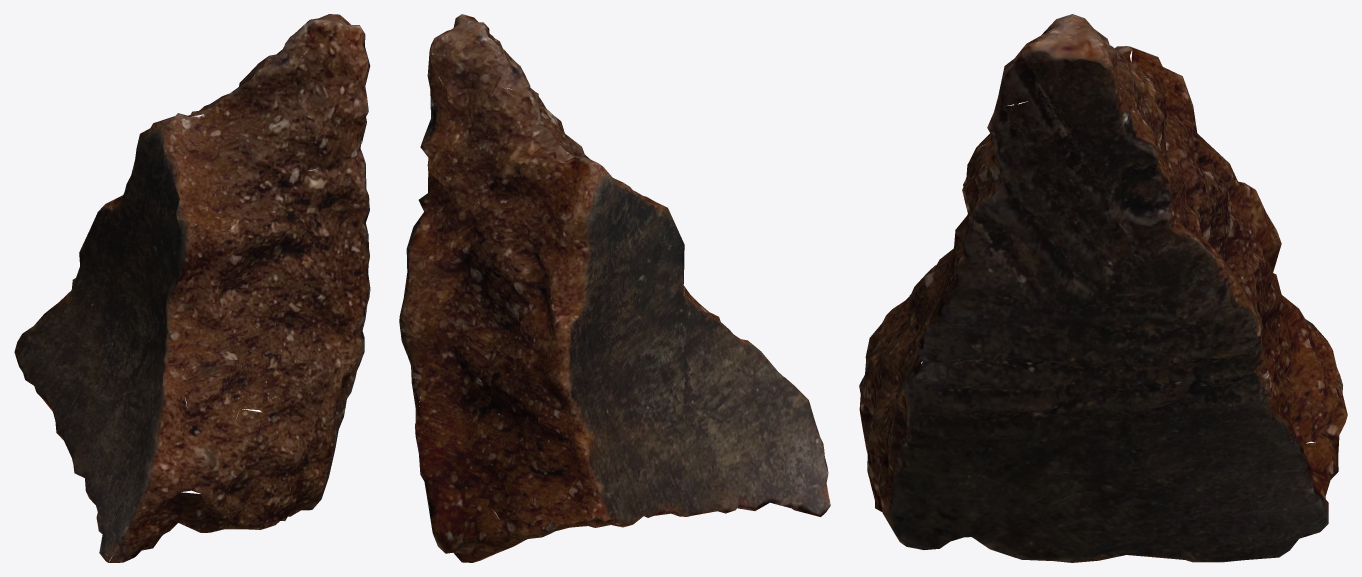
File: piece15_10000_resHi.glb
3 views of the same model, side by side, from view 1: azimuth 30°, elevation 25°; view 2: azimuth 150°, elevation 25°; view 3: azimuth 270°, elevation 25° (orthographic). The views are drawn at different scales.
Size of the model in its own units: 0.276 by 0.3762 by 0.2842.
Materials: 1 (1 with a texture image).
